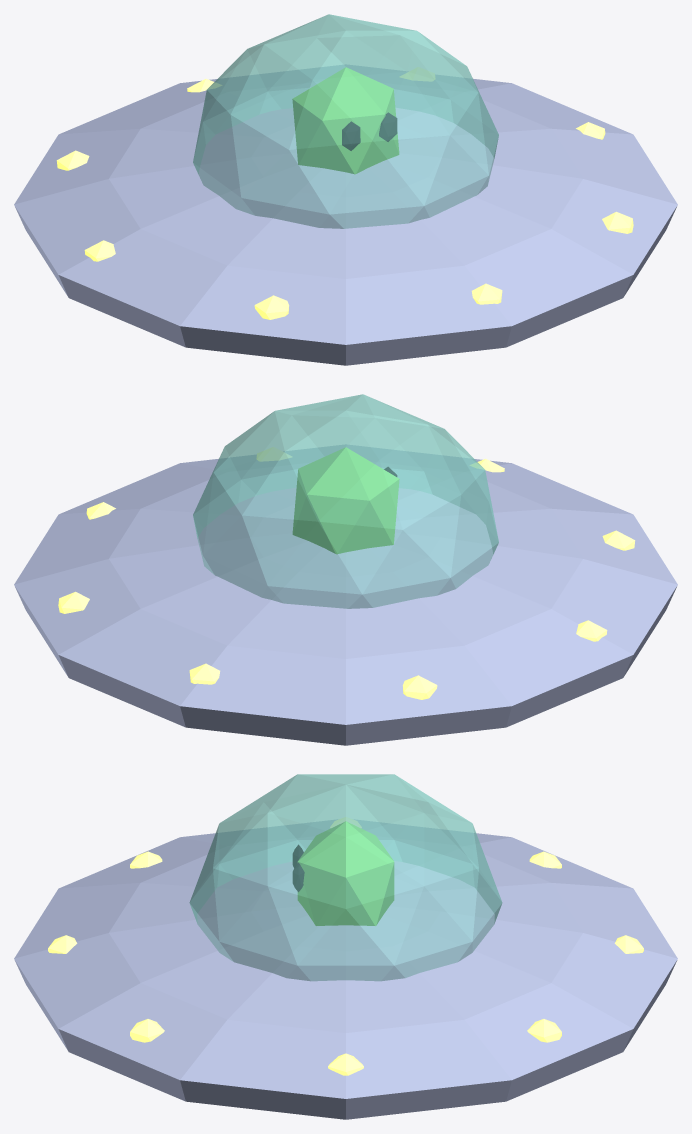
Rendered from ufo.glb.
3 views of the same model, one above another, from view 1: azimuth 30°, elevation 25°; view 2: azimuth 150°, elevation 25°; view 3: azimuth 270°, elevation 25° (orthographic).
Parts seen in each view (by area): view 1: Saucer; view 2: Saucer; view 3: Saucer.
Part boxes in pixels (box(x1,y1,x2,y2)): Saucer: box(14, 14, 677, 365); Saucer: box(14, 394, 677, 745); Saucer: box(14, 774, 677, 1119).
Bounding box in the file's own units: 2.8 × 1.15 × 2.8.
